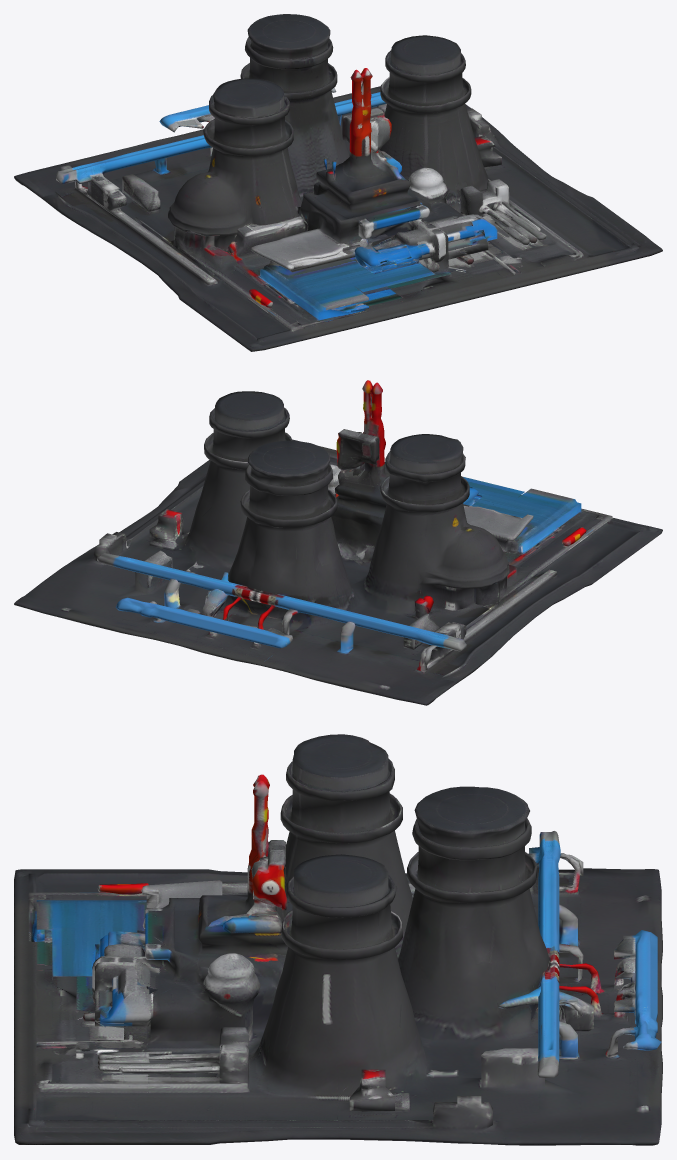
The model's file is nuclear_plant.glb.
3 views of the same model, one above another, from view 1: azimuth 30°, elevation 25°; view 2: azimuth 150°, elevation 25°; view 3: azimuth 270°, elevation 25° (orthographic). The views are drawn at different scales.
Size of the model in its own units: 1.91 by 0.7436 by 1.91.
Materials: 1 (1 with a texture image).
